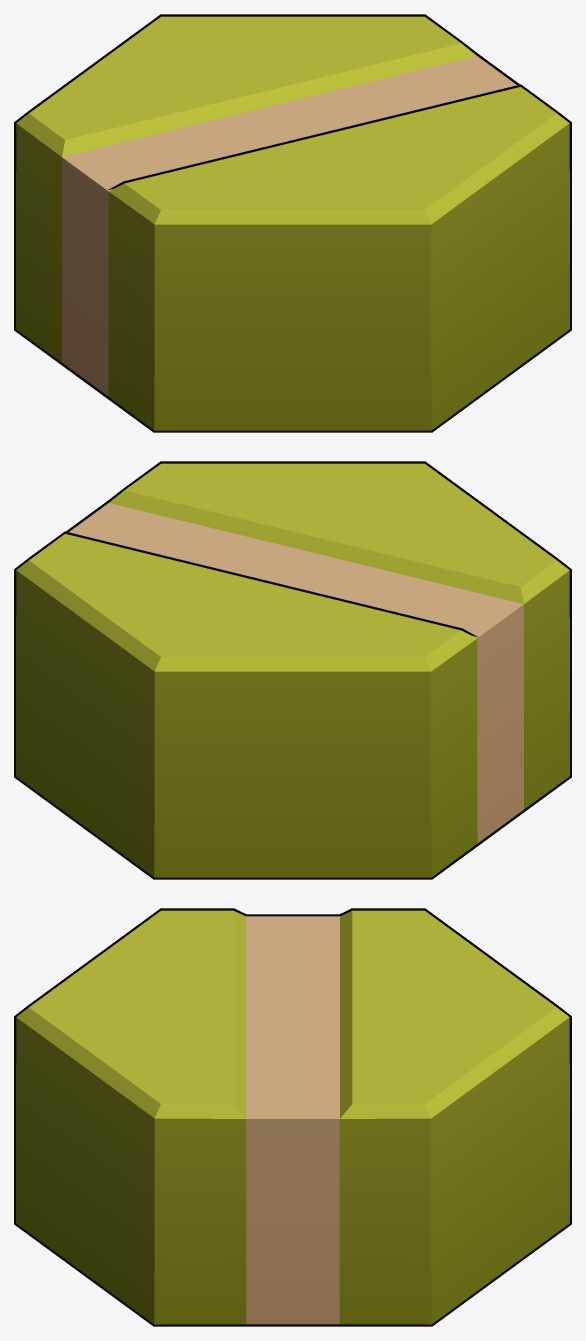
3 renders of one model, top to bottom at view 1: azimuth 30°, elevation 25°; view 2: azimuth 150°, elevation 25°; view 3: azimuth 270°, elevation 25°, orthographic.
Visible parts, largest first — view 1: hex_road_A; view 2: hex_road_A; view 3: hex_road_A.
Part boxes in pixels (x1,y1,x2,y2): hex_road_A: (14,14,571,432); hex_road_A: (14,461,571,879); hex_road_A: (14,908,571,1326).
Size of the model in its own units: 2 by 1 by 2.31.
2 materials, 1 textured.
